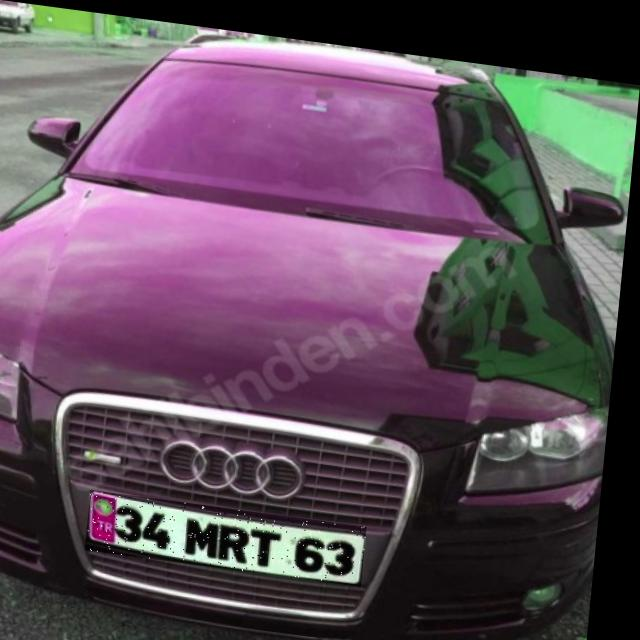license_plate: (96, 486, 377, 575)
